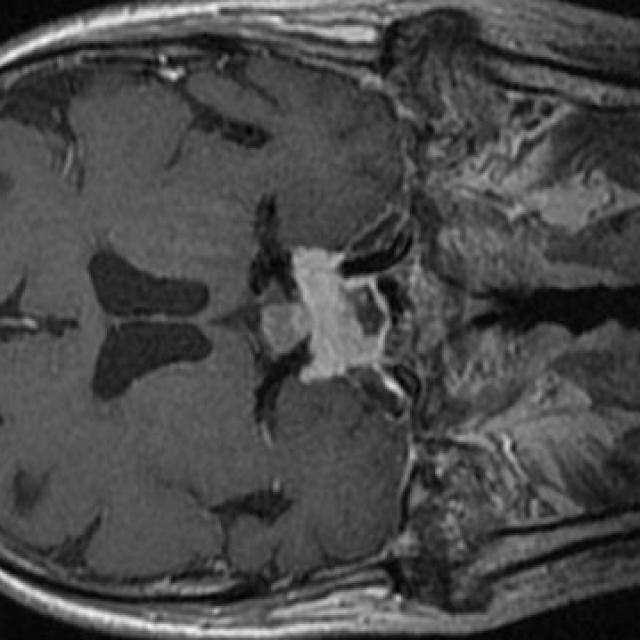pituitary: (262, 248, 383, 383)
